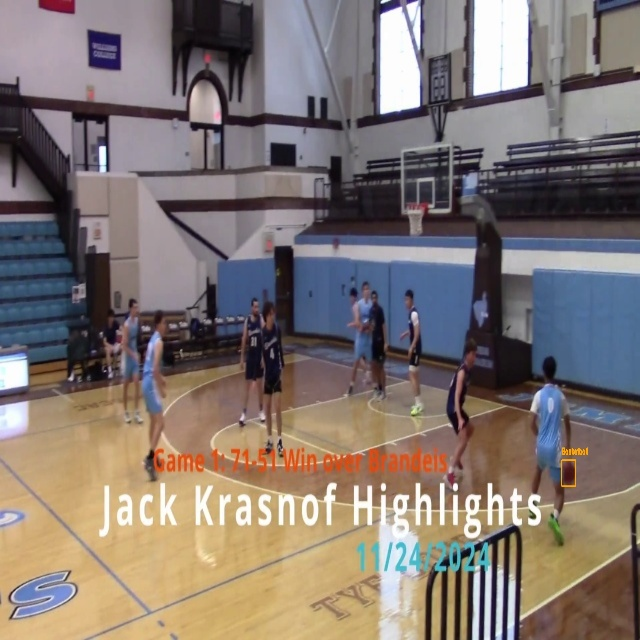Basketball: (562, 460, 576, 486)
